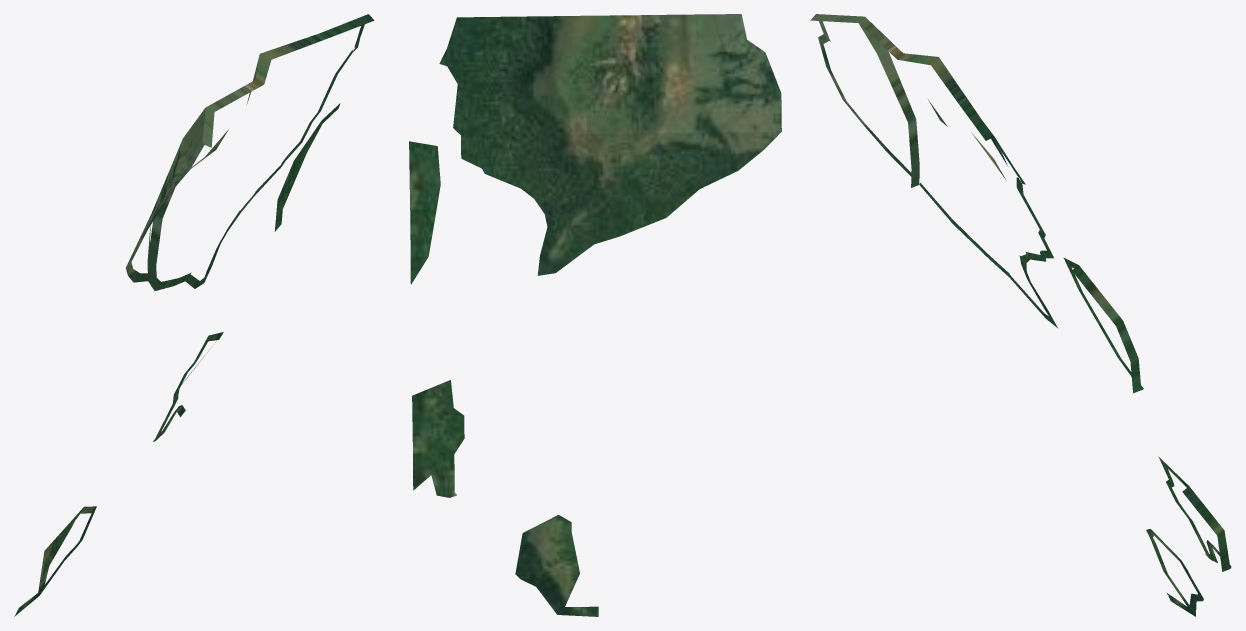
3 views of the same model, side by side, from view 1: azimuth 30°, elevation 25°; view 2: azimuth 150°, elevation 25°; view 3: azimuth 270°, elevation 25° (orthographic). The views are drawn at different scales.
Bounding box in the file's own units: 1224 × 2131 × 1345.
1 material, 1 textured.
